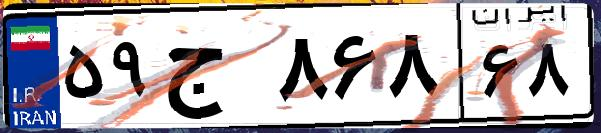5: (57, 26, 110, 100)
6: (330, 28, 385, 110), (475, 38, 525, 113)
8: (270, 28, 330, 110), (385, 28, 445, 110), (525, 38, 570, 115)
9: (110, 28, 158, 98)
ج: (158, 20, 270, 120)
